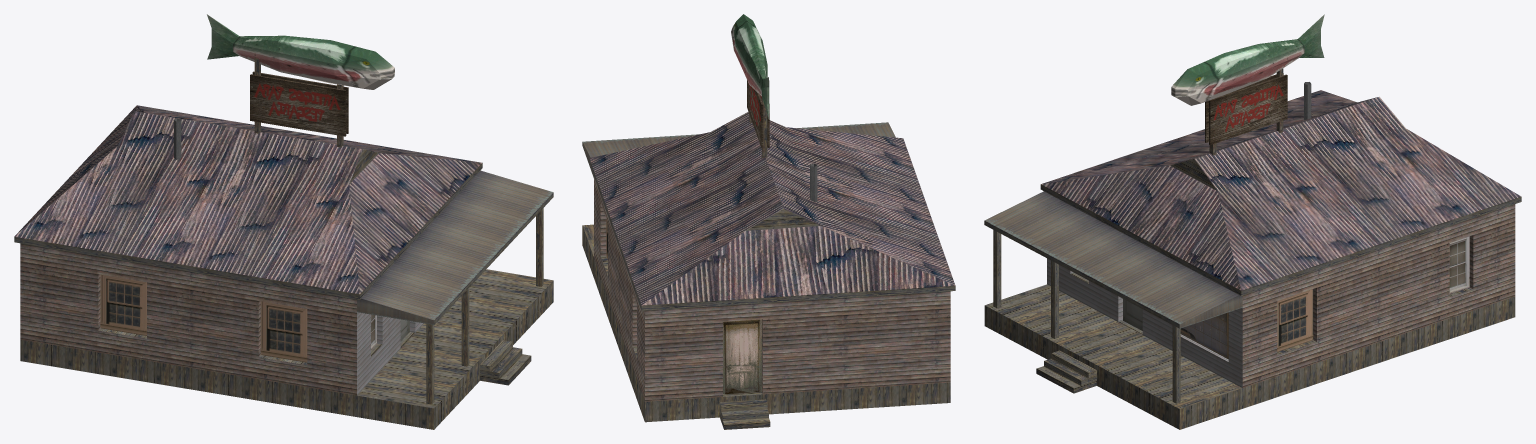
File: cuntw_town07.obj
3 renders of one model, left to right at view 1: azimuth 30°, elevation 25°; view 2: azimuth 150°, elevation 25°; view 3: azimuth 270°, elevation 25°, orthographic. The views are drawn at different scales.
Parts seen in each view (by area): view 1: cuntw_town07; view 2: cuntw_town07; view 3: cuntw_town07.
Part boxes in pixels (x1,y1,x2,y2): cuntw_town07: (14,14,553,429); cuntw_town07: (582,14,955,429); cuntw_town07: (984,14,1521,429).
Bounding box in the file's own units: 13.59 × 8.33 × 14.07.
13 materials, 13 textured.
